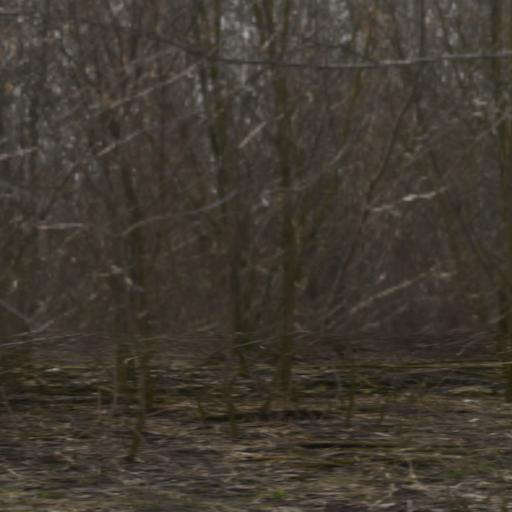nothing: (2, 2, 512, 511)
